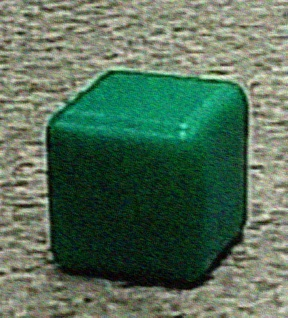green_cube: (26, 63, 275, 294)
